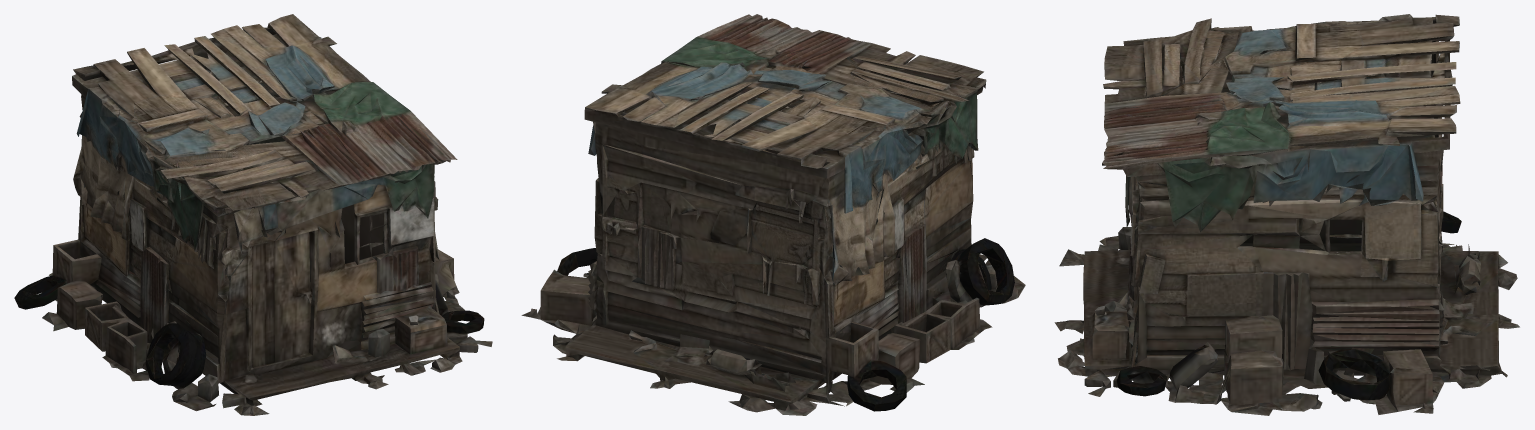
The model's file is shack-v1.glb.
3 views of the same model, side by side, from view 1: azimuth 30°, elevation 25°; view 2: azimuth 150°, elevation 25°; view 3: azimuth 270°, elevation 25° (orthographic). The views are drawn at different scales.
Parts seen in each view (by area): view 1: output_unwrapped; view 2: output_unwrapped; view 3: output_unwrapped.
Boxes of the visible parts, x1,y1,x2,y2 form: output_unwrapped: (14, 14, 492, 415); output_unwrapped: (521, 14, 1025, 415); output_unwrapped: (1054, 14, 1519, 415).
Bounding box in the file's own units: 1.89 × 1.11 × 1.9.
Materials: 1 (1 with a texture image).
